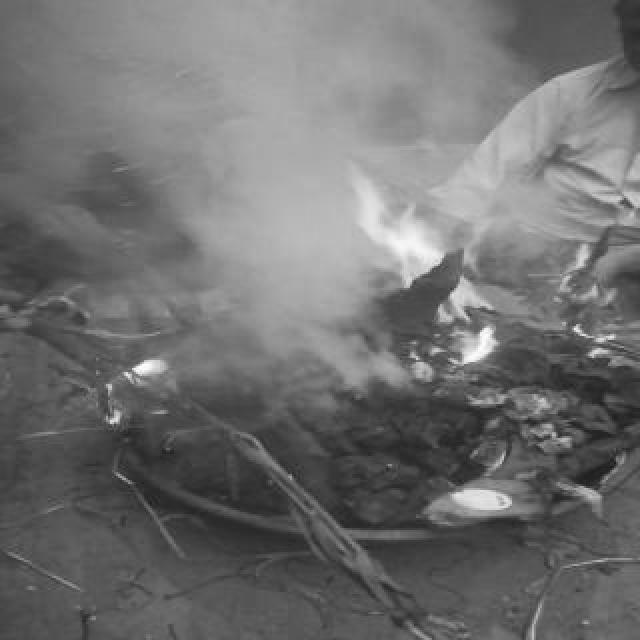Fire: (344, 158, 486, 330), (558, 254, 636, 366), (76, 348, 176, 430), (454, 322, 502, 376)
Smoke: (8, 2, 572, 176), (172, 176, 356, 386), (4, 178, 172, 350)
